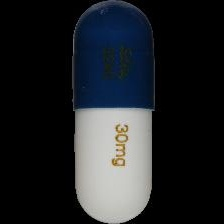50436-9980: (0, 0, 224, 224)
